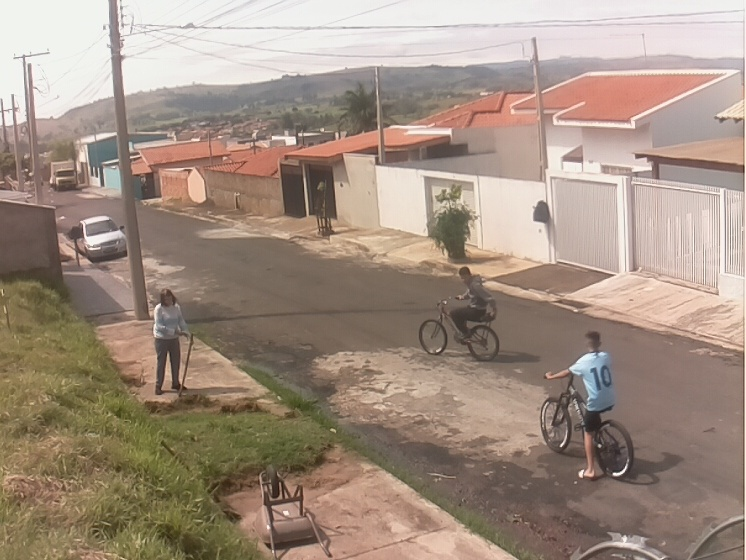person: (545, 330, 616, 480), (152, 288, 186, 395), (451, 265, 492, 341)
